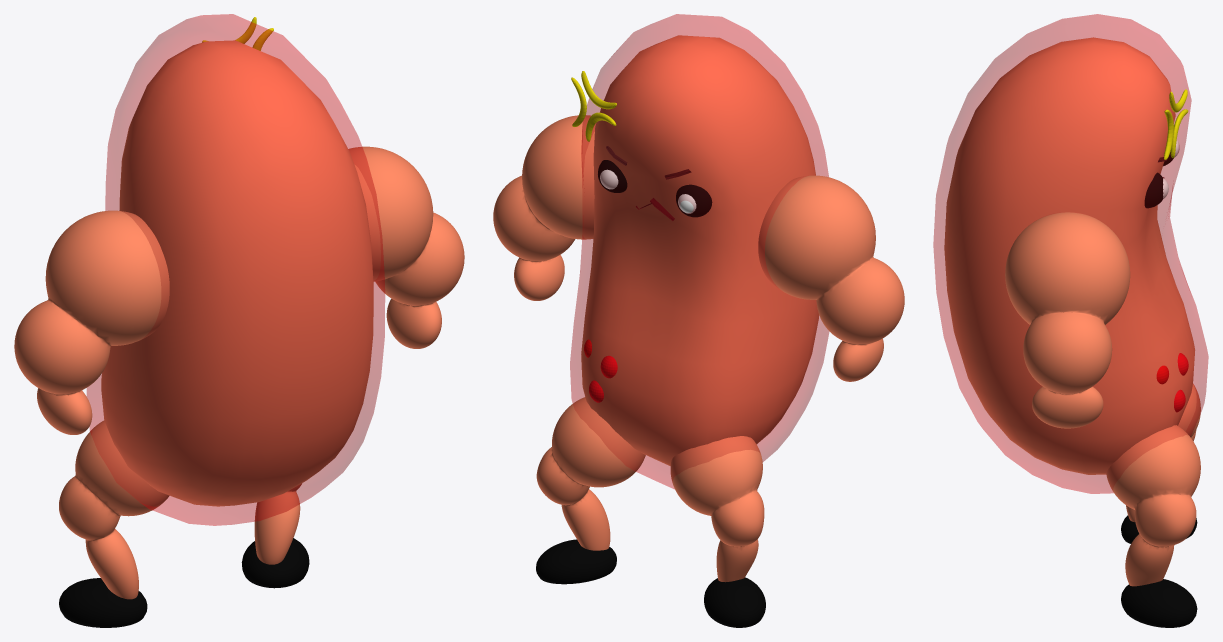
Rendered from BUFFBEANCOMBINED.fbx.
3 renders of one model, left to right at view 1: azimuth 30°, elevation 25°; view 2: azimuth 150°, elevation 25°; view 3: azimuth 270°, elevation 25°, orthographic. The views are drawn at different scales.
Visible parts, largest first — view 1: Cube, Cube.001, Sphere.005, Sphere.004, Sphere.008, Sphere.007, Sphere, Sphere.009; view 2: Cube, Cube.001, Sphere.005, Sphere.004, Sphere.008, Sphere, Sphere.009, Sphere.007, Cylinder.001, Sphere.002; view 3: Cube, Cube.001, Sphere.004, Sphere, Sphere.009, Cylinder.001, Sphere.008, Sphere.003, Sphere.007.
Boxes of the visible parts, box(x1,y1,x2,y2) form: Cube: box(87, 14, 384, 525); Cube.001: box(101, 40, 373, 506); Sphere.005: box(14, 210, 169, 434); Sphere.004: box(348, 146, 464, 348); Sphere.008: box(59, 420, 169, 599); Sphere.007: box(59, 578, 147, 627); Sphere: box(254, 483, 301, 564); Sphere.009: box(241, 538, 309, 588); Cube: box(570, 14, 829, 489); Cube.001: box(581, 35, 819, 465); Sphere.005: box(758, 175, 904, 381); Sphere.004: box(493, 115, 595, 300); Sphere.008: box(670, 436, 764, 582); Sphere: box(536, 397, 645, 550); Sphere.009: box(536, 539, 616, 584); Sphere.007: box(704, 577, 765, 627); Cylinder.001: box(571, 71, 616, 141); Sphere.002: box(676, 184, 712, 217); Cube: box(933, 14, 1208, 493); Cube.001: box(944, 37, 1195, 474); Sphere.004: box(1005, 212, 1130, 428); Sphere: box(1106, 425, 1200, 586); Sphere.009: box(1121, 579, 1197, 627); Cylinder.001: box(1164, 89, 1188, 159); Sphere.008: box(1126, 384, 1200, 522); Sphere.003: box(1144, 172, 1163, 208); Sphere.007: box(1121, 515, 1197, 543).
Bounding box in the file's own units: 541 × 707 × 319.
